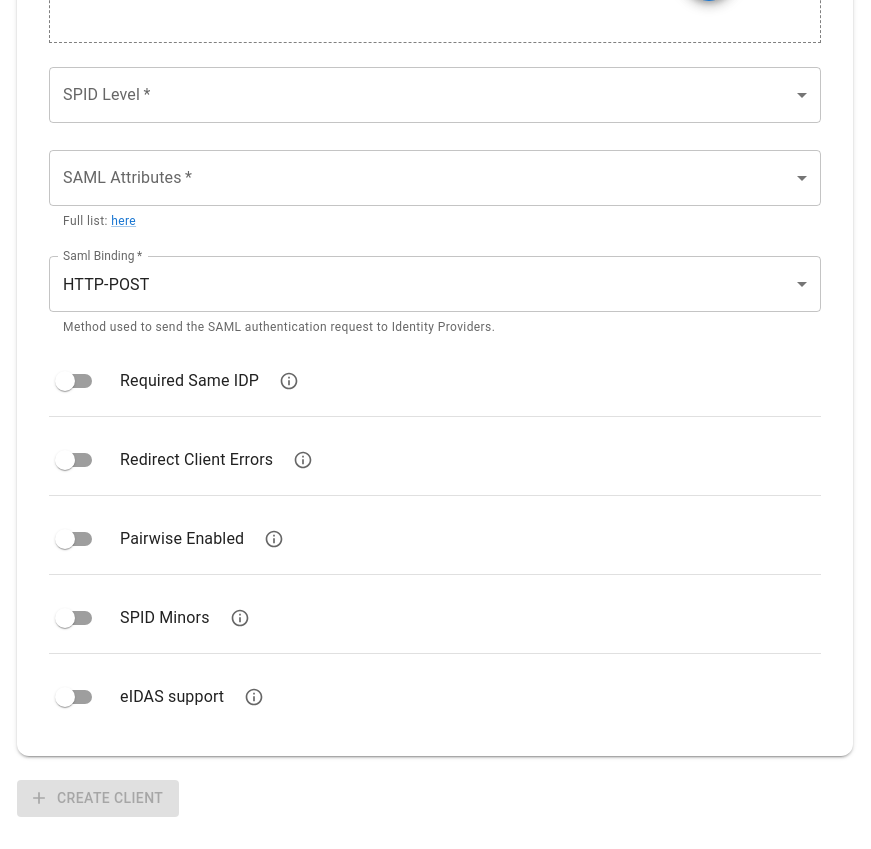
Test: Dashboard SPID Minors › shows eIDAS select when support is enabled and hides it when disabled
This screenshot has width=871, height=849.
(page scrolled)
Expected: the field labelled "eIDAS attribute set" is not shown
Step 1. Click the checkbox labelled "eIDAS support" → (140, 697), box left=55, top=687, right=224, bottom=707
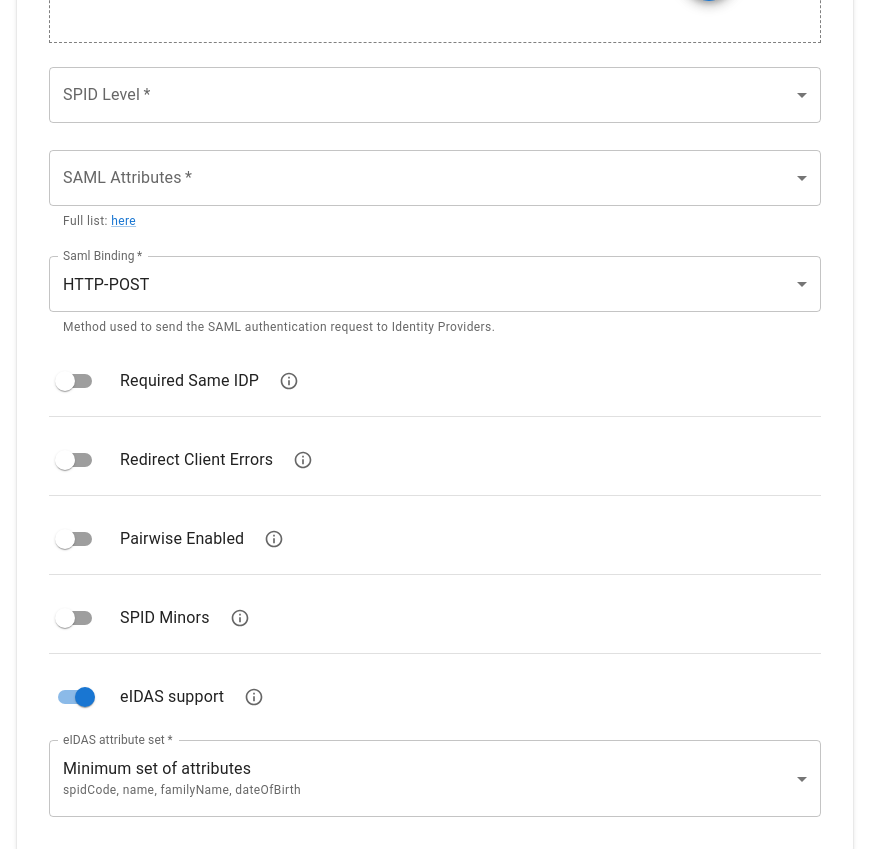
Expected: the dropdown named "eIDAS attribute set" is shown, left=63, top=759, right=301, bottom=797
Step 2. Click the checkbox labelled "eIDAS support" → (141, 697), box left=58, top=687, right=224, bottom=707
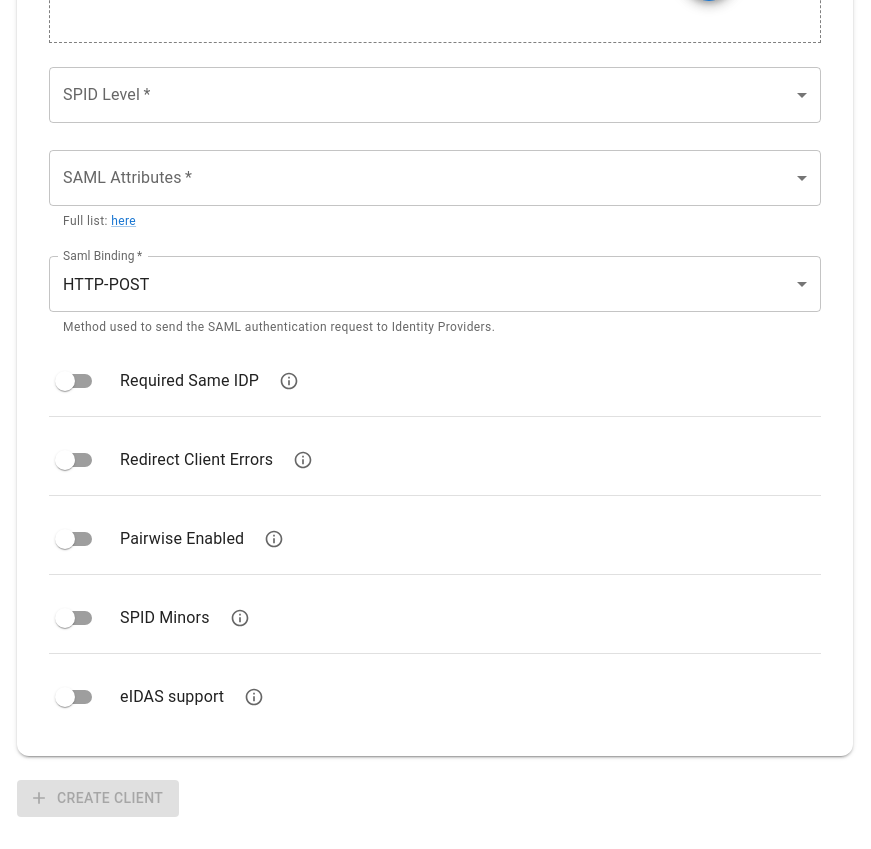
Expected: the label labelled "eIDAS attribute set" is gone
